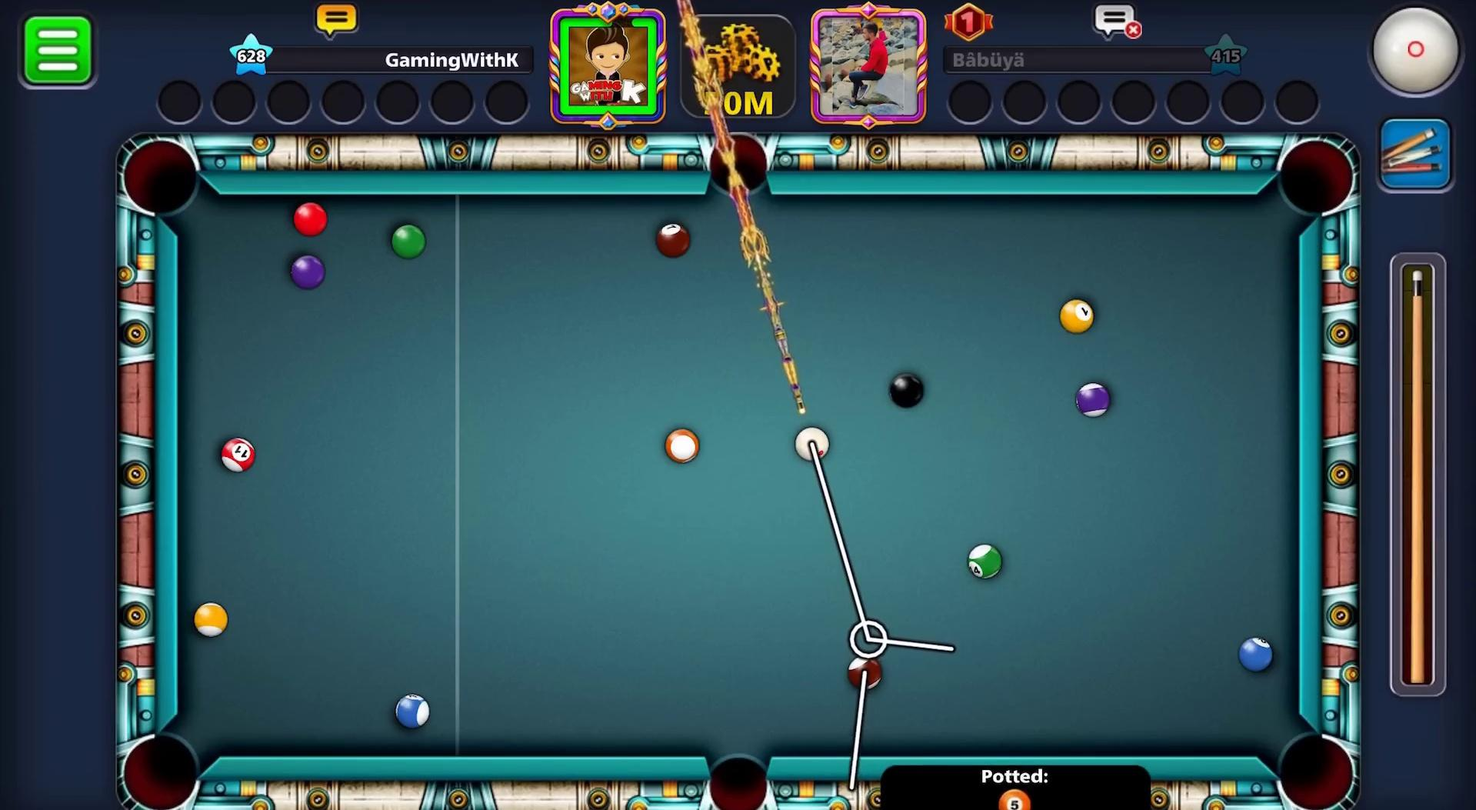Ball: (644, 213, 699, 262), (280, 246, 334, 295), (879, 364, 932, 413), (1057, 291, 1104, 344), (282, 196, 334, 240), (1237, 630, 1278, 680), (965, 540, 1006, 587), (844, 653, 887, 696), (388, 222, 424, 259), (195, 601, 231, 638), (662, 425, 698, 462), (217, 434, 253, 471), (391, 694, 427, 730), (1077, 382, 1113, 418)
Force: (1392, 252, 1450, 696)
Guideline: (801, 440, 958, 797)
Hole: (109, 123, 221, 233), (98, 719, 222, 810), (1259, 715, 1364, 810), (1272, 122, 1359, 226), (697, 125, 782, 219), (692, 742, 786, 810)
Play_Area: (177, 196, 1299, 757)
Spin: (1330, 0, 1476, 113)
White: (790, 421, 835, 467)
